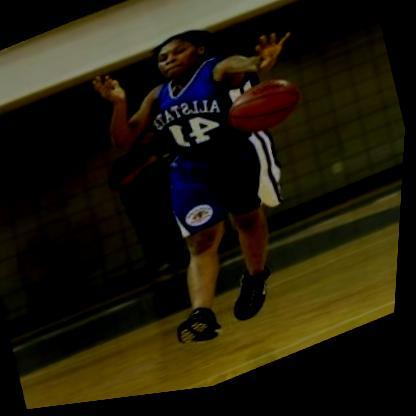basketball: (222, 77, 306, 150)
